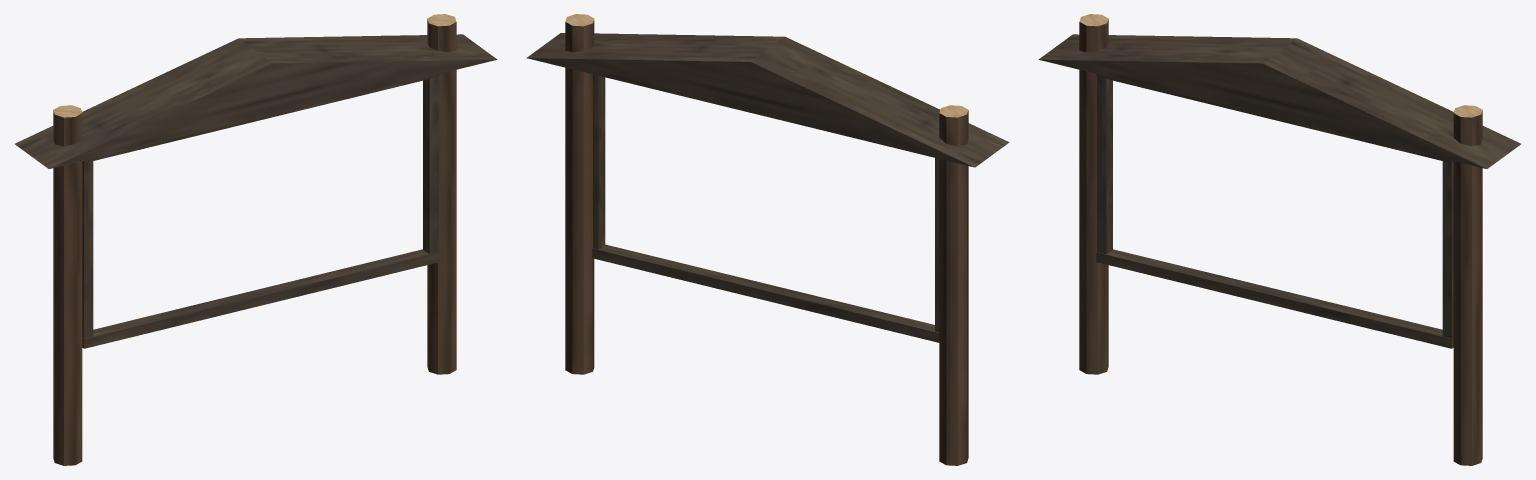
The model's file is SM_Sign_Board.fbx.
3 renders of one model, left to right at view 1: azimuth 30°, elevation 25°; view 2: azimuth 150°, elevation 25°; view 3: azimuth 330°, elevation 25°, orthographic.
Visible parts, largest first — view 1: SM_Sign_Board; view 2: SM_Sign_Board; view 3: SM_Sign_Board.
Boxes of the visible parts, x1=… form: SM_Sign_Board: x1=15, y1=14, x2=497, y2=465; SM_Sign_Board: x1=526, y1=14, x2=1009, y2=465; SM_Sign_Board: x1=1038, y1=14, x2=1520, y2=465.
Bounding box in the file's own units: 12 × 9.3 × 1.6.
1 material, 1 textured.
